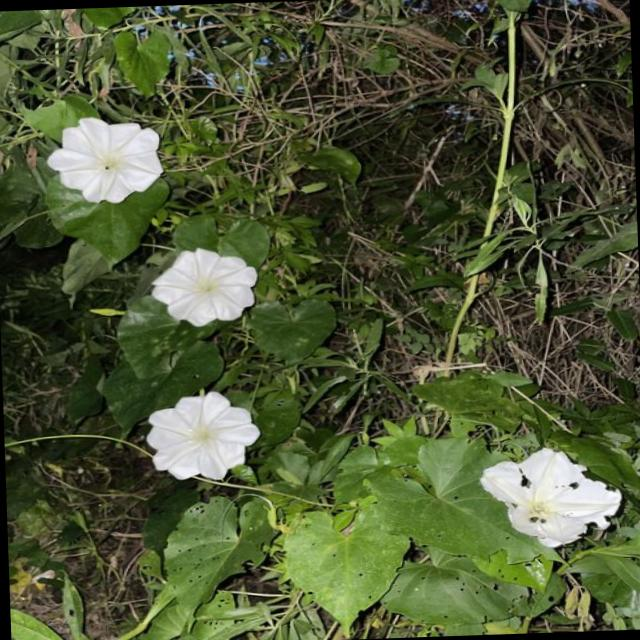ipomoea: (474, 442, 626, 553), (41, 112, 168, 209), (140, 386, 264, 485), (145, 243, 263, 331)
